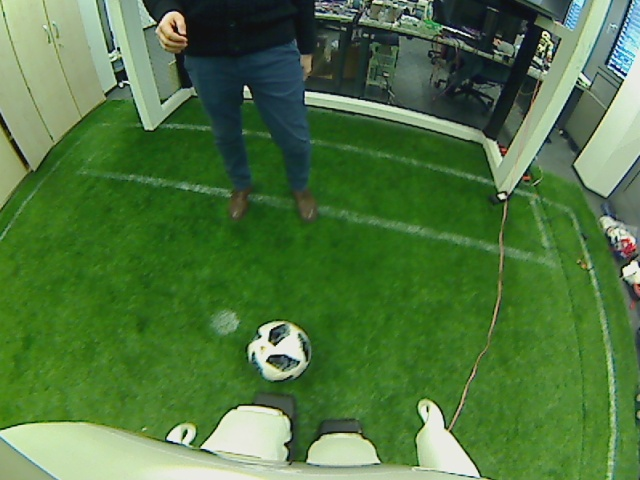ball: (245, 319, 313, 383)
